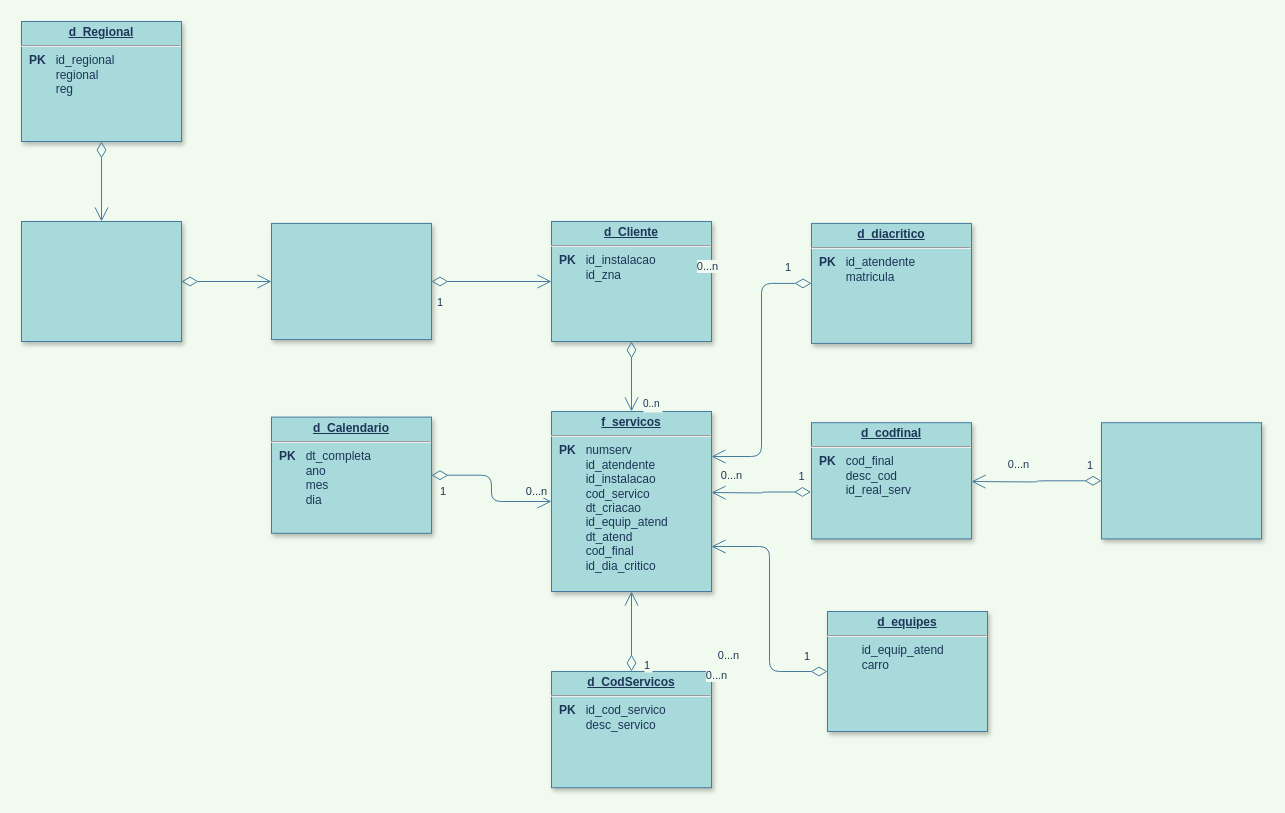
The diagram is 1285 pixels wide and 813 high, and some of its shapes have lost their labels. The shapes that lost their labels are listed below. From the top down, each one's centre as x and y in pixels, then its label:
At [102,282]: "d_Localidade PK id_localidade desc_localidade id_regional".
At [352,282]: "d_Equipamentos PK id_zna identificador id_localidade".
At [1182,482]: "d_real_serv PK id_real_serv desc_serv".
